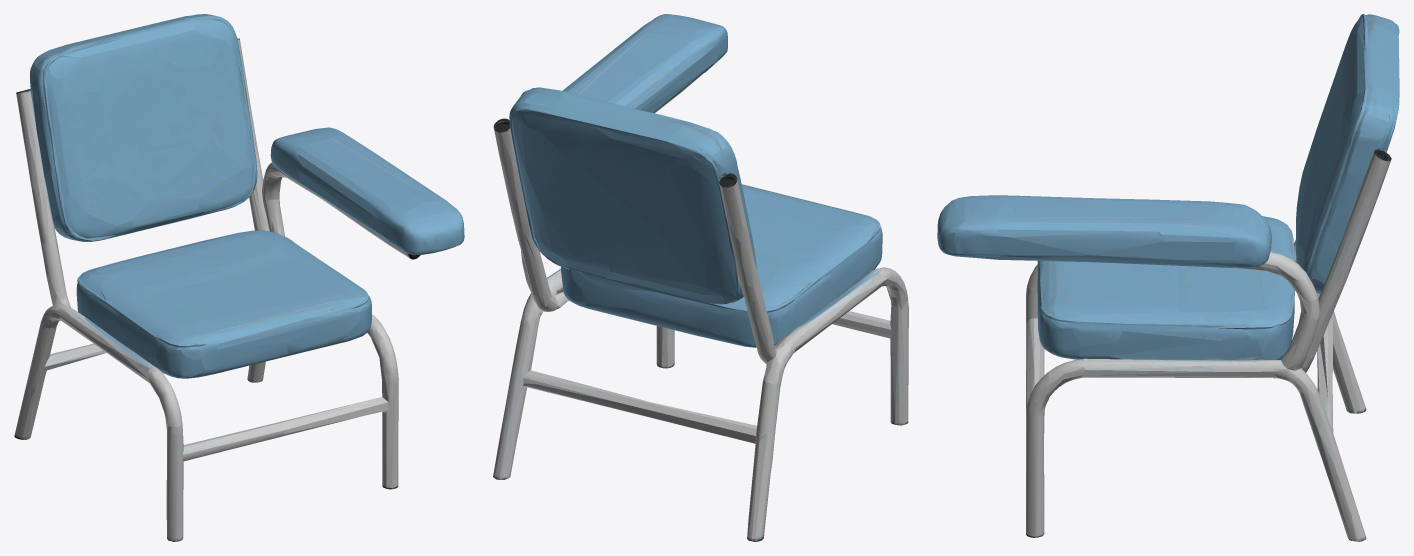
File: chair.glb
3 views of the same model, side by side, from view 1: azimuth 30°, elevation 25°; view 2: azimuth 150°, elevation 25°; view 3: azimuth 270°, elevation 25° (orthographic). The views are drawn at different scales.
Bounding box in the file's own units: 1.46 × 1.9 × 1.9.
1 material, 1 textured.
